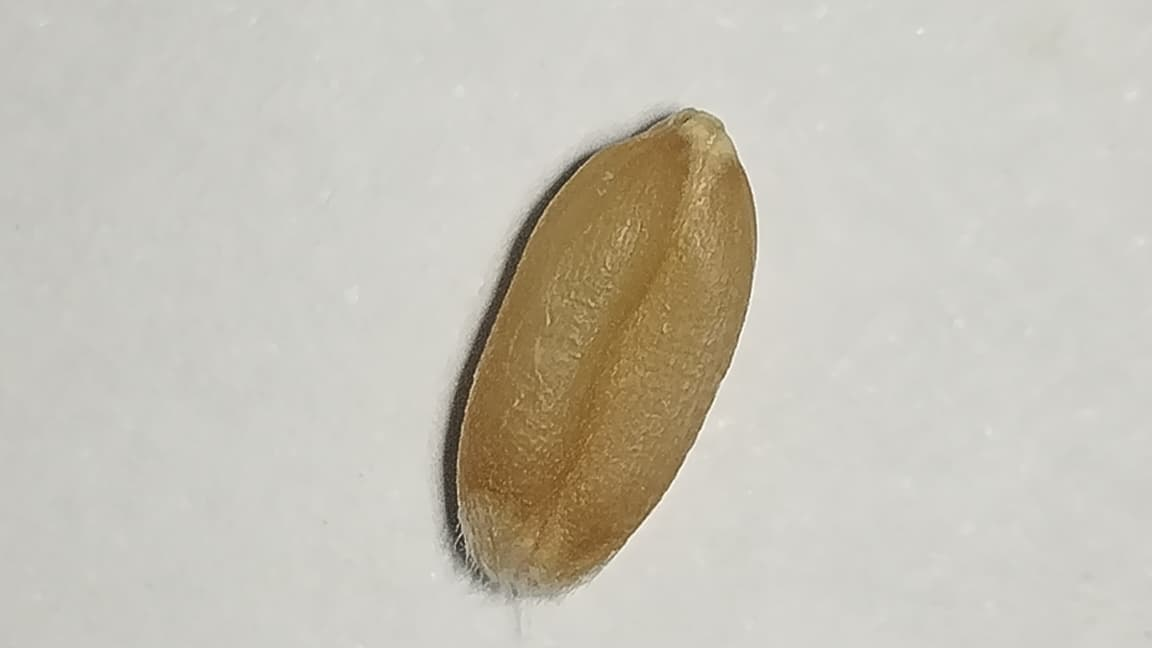healthy: (458, 110, 755, 599)
